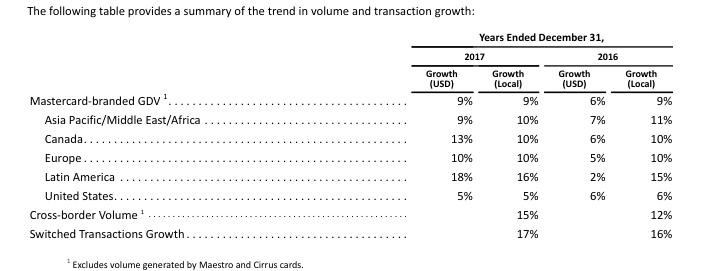table: (28, 29, 671, 240)
table column: (28, 29, 312, 240), (312, 29, 481, 240), (547, 29, 614, 240), (481, 29, 547, 240), (614, 29, 671, 240)
table column header: (28, 29, 671, 89)
table row: (28, 64, 671, 89), (28, 89, 671, 109), (28, 109, 671, 128), (28, 128, 671, 147), (28, 147, 671, 166), (28, 184, 671, 203), (28, 203, 671, 222), (28, 46, 671, 64), (28, 166, 671, 184), (28, 222, 671, 240), (28, 29, 671, 46)
table spanning cell: (312, 29, 671, 46), (312, 46, 547, 64), (547, 46, 671, 64)
